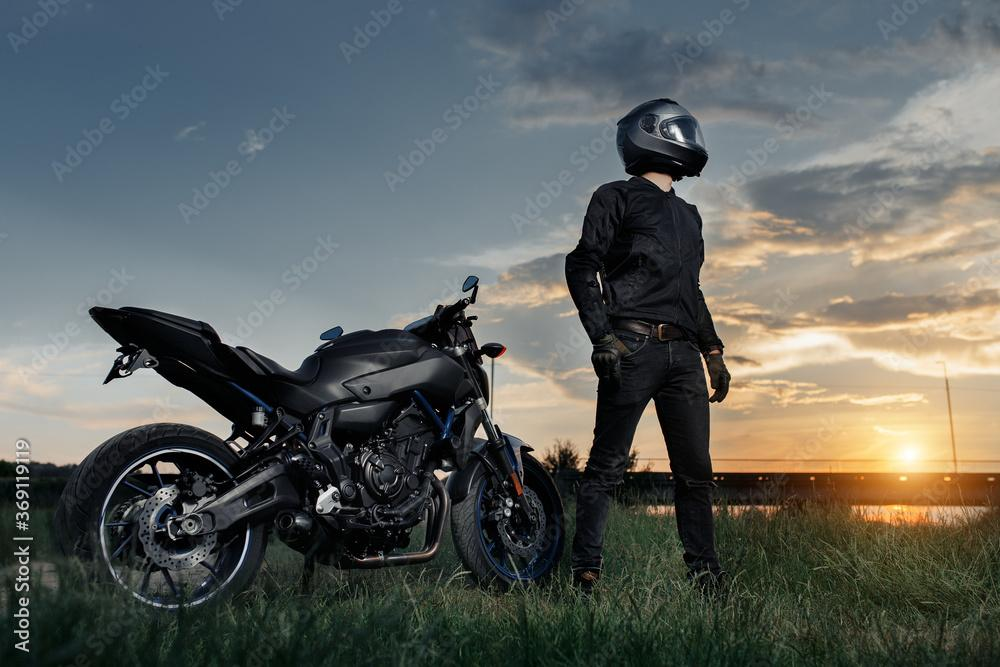helmet: (615, 97, 710, 183)
